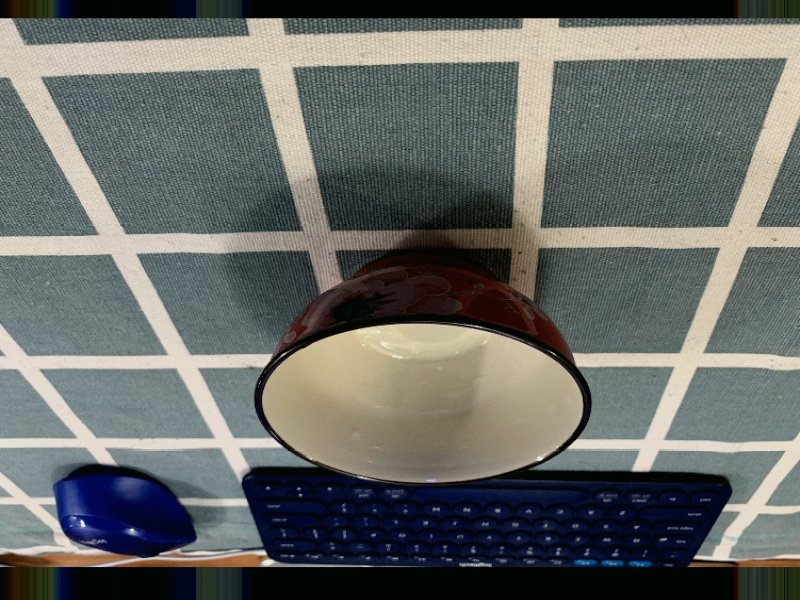bowl_small: (243, 242, 596, 491)
